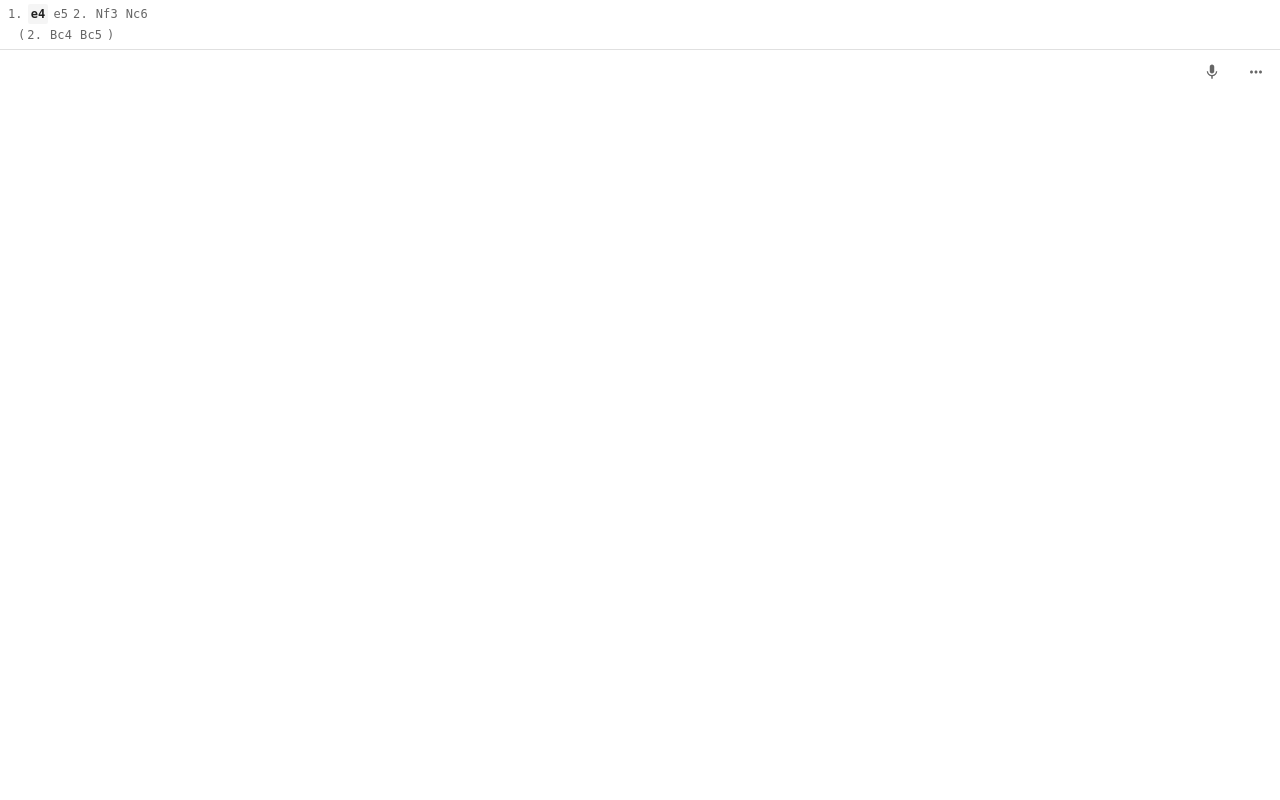
it: Recording a voice note › mic permission denied shows a clear message instead of crashing
Click the button named "Voice note". click: (1212, 72)
box: [1192,52,1232,92]
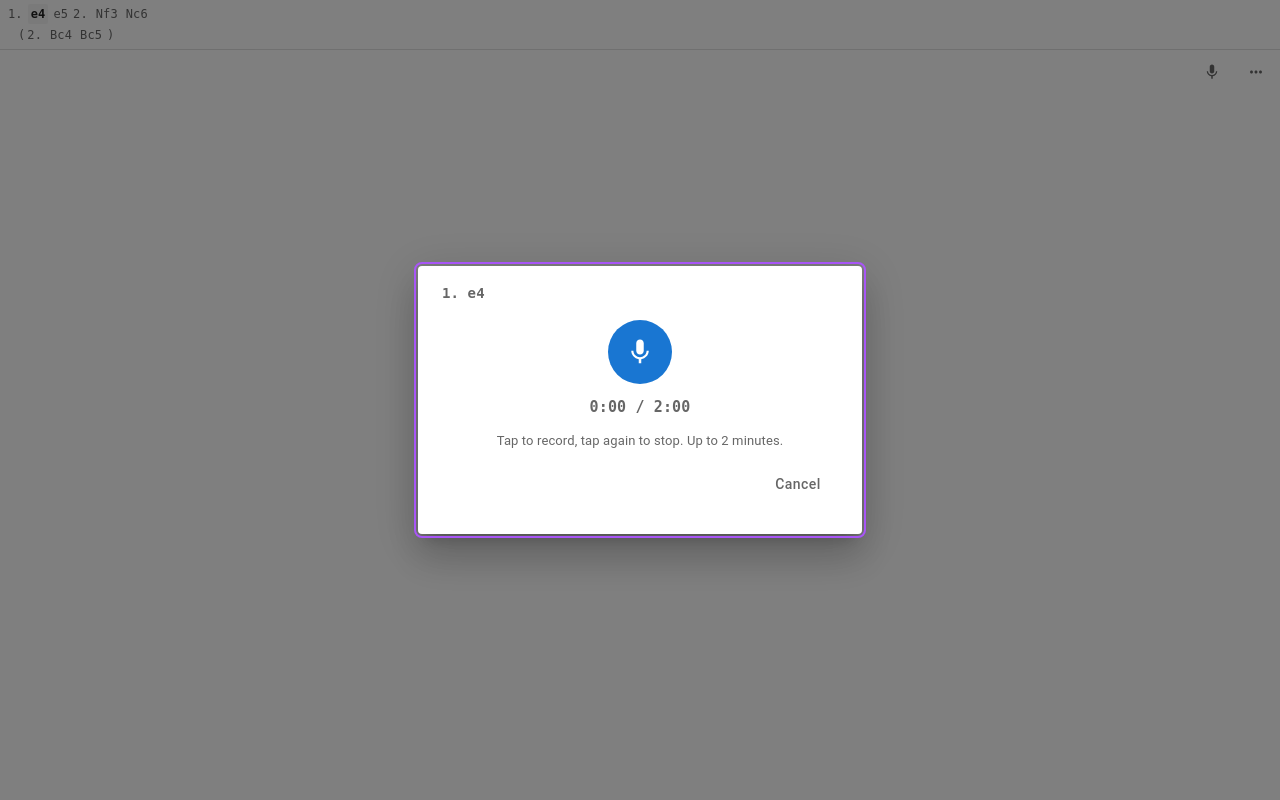
Click the button named "Record". click: (640, 352)
box: [608,320,672,384]
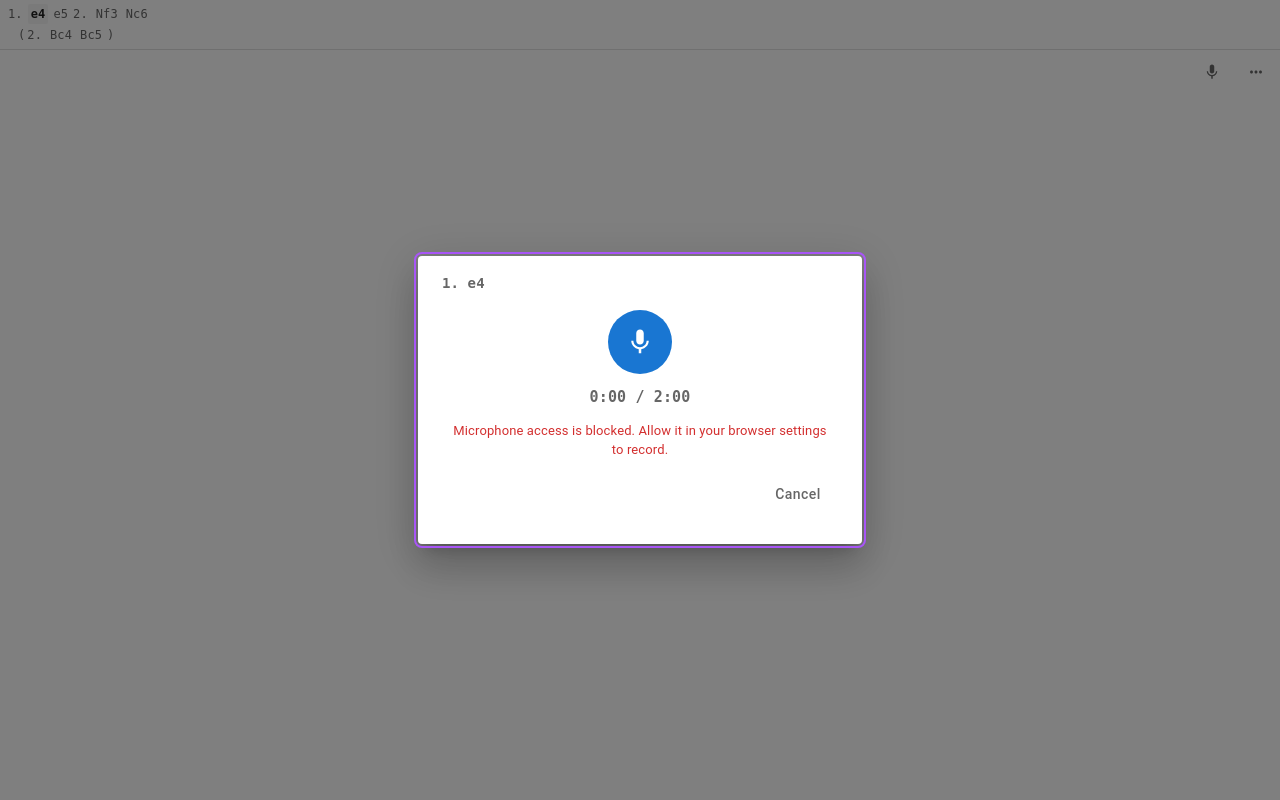
Check: the button named "Record" is shown, box [608,310,672,374]
Check: the message shows "Microphone access is blocked", box [453,423,827,457]
